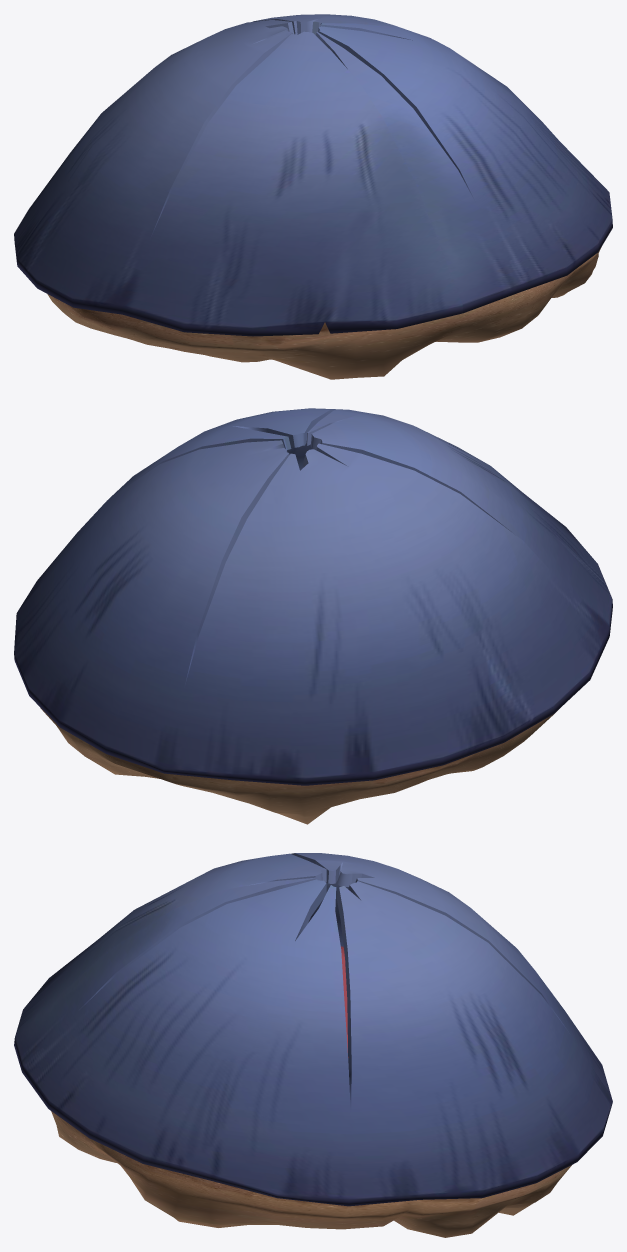
File: Mushroom Hat.fbx
3 views of the same model, one above another, from view 1: azimuth 30°, elevation 25°; view 2: azimuth 150°, elevation 25°; view 3: azimuth 270°, elevation 25° (orthographic).
Visible parts, largest first — view 1: Cylinder, Cylinder.007; view 2: Cylinder, Cylinder.007; view 3: Cylinder, Cylinder.007.
Boxes of the visible parts, x1,y1,x2,y2 form: Cylinder: (14, 14, 612, 336); Cylinder.007: (47, 247, 601, 379); Cylinder: (14, 408, 612, 785); Cylinder.007: (40, 708, 557, 824); Cylinder: (14, 853, 612, 1206); Cylinder.007: (51, 946, 571, 1237).
Size of the model in its own units: 401 by 221 by 402.
1 material, 1 textured.
